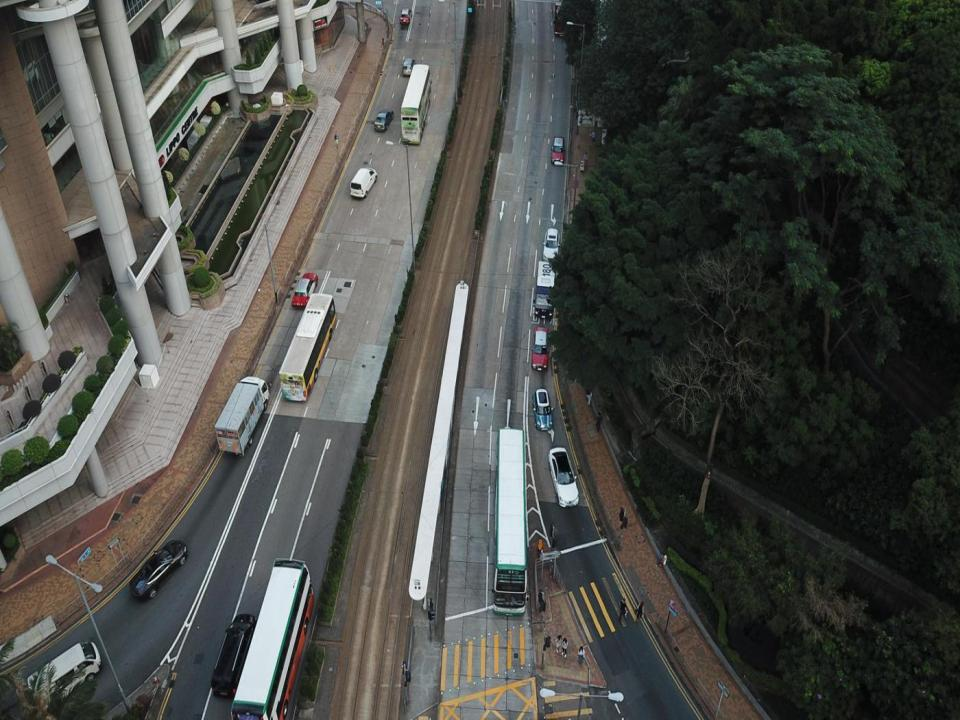bus: (230, 559, 315, 719), (278, 294, 335, 400), (496, 429, 526, 614), (400, 64, 432, 145)
car: (211, 613, 257, 697), (129, 539, 187, 602), (292, 273, 318, 307), (533, 388, 552, 430), (531, 328, 548, 371), (542, 229, 560, 260), (374, 108, 394, 132), (552, 136, 564, 165), (400, 8, 412, 25), (403, 58, 415, 74)
truck: (214, 376, 269, 456), (534, 261, 554, 318), (552, 1, 568, 36)
van: (27, 640, 101, 710), (549, 447, 578, 506), (351, 166, 377, 197)
